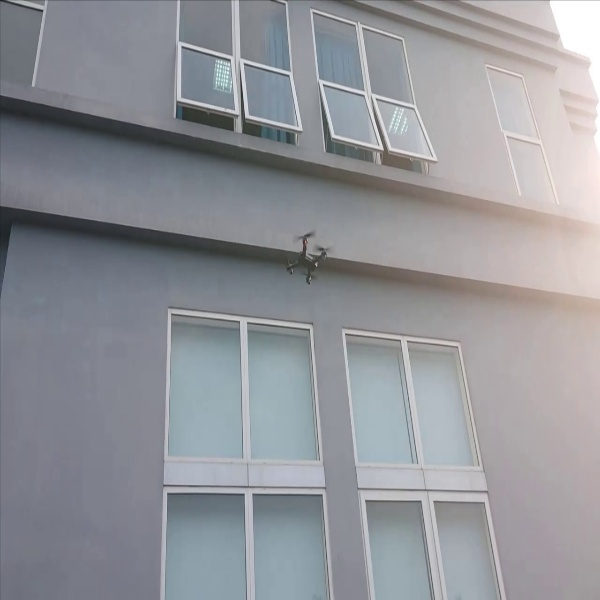drone: (279, 225, 335, 284)
